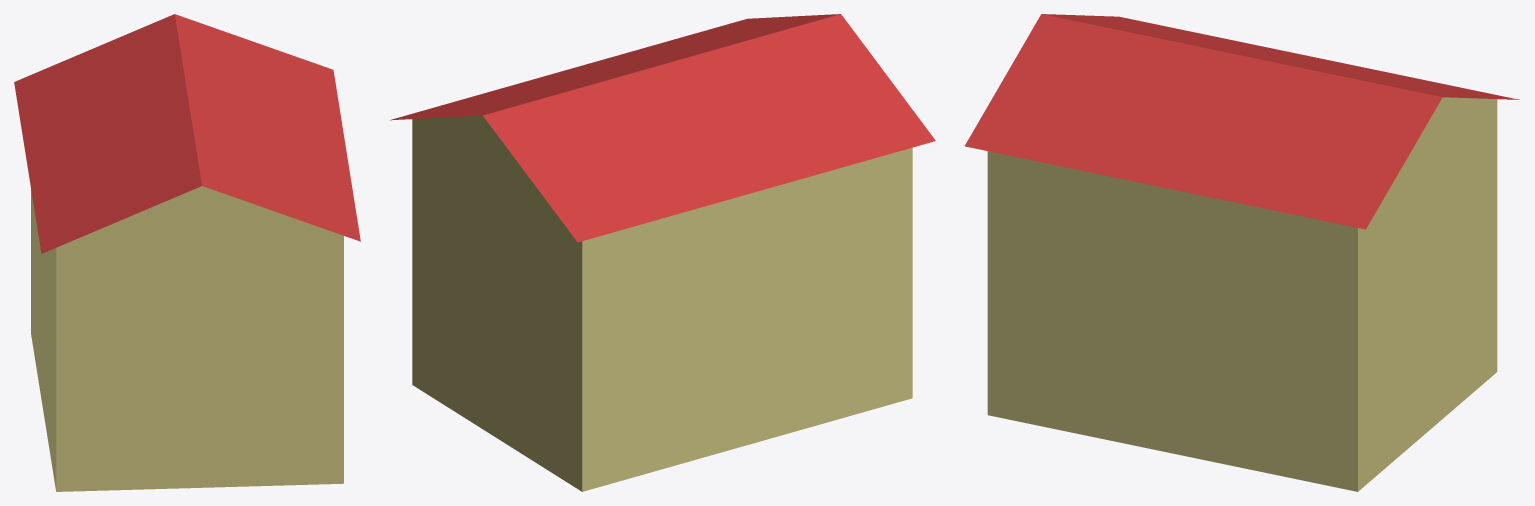
3 views of the same model, side by side, from view 1: azimuth 30°, elevation 25°; view 2: azimuth 150°, elevation 25°; view 3: azimuth 270°, elevation 25° (orthographic). The views are drawn at different scales.
Bounding box in the file's own units: 14.74 × 16.01 × 10.74.
